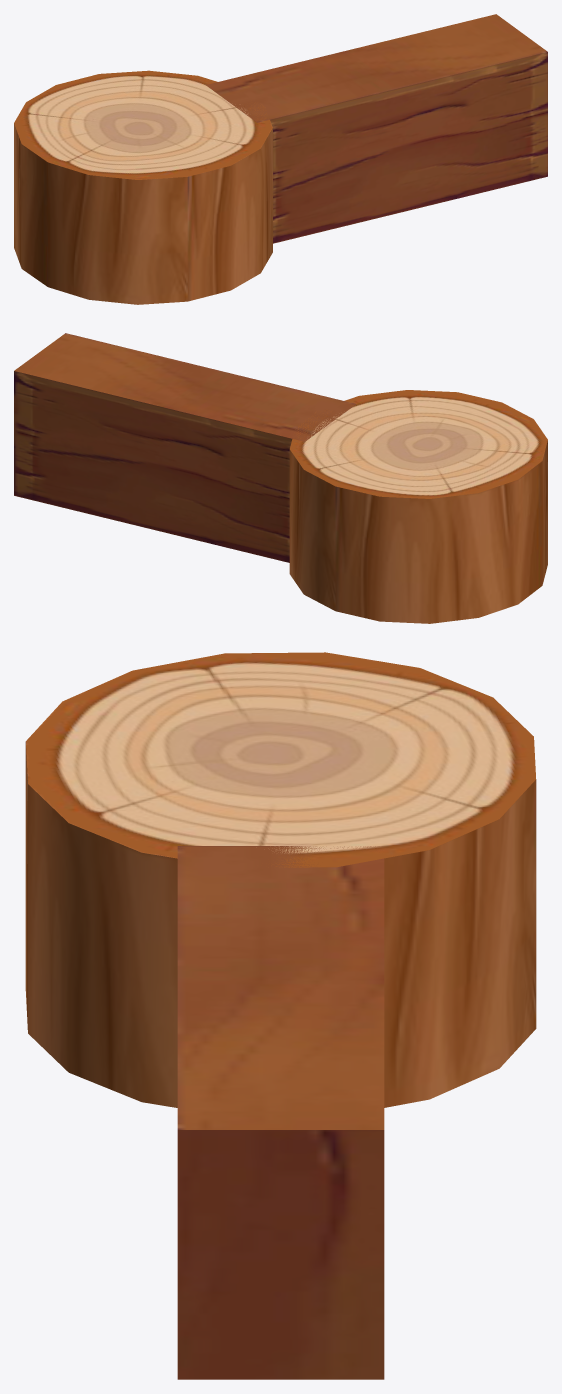
File: one_blade_wood_01.fbx
3 renders of one model, top to bottom at view 1: azimuth 30°, elevation 25°; view 2: azimuth 150°, elevation 25°; view 3: azimuth 270°, elevation 25°, orthographic. The views are drawn at different scales.
Parts seen in each view (by area): view 1: wood_center_29, Blade_46; view 2: wood_center_29, Blade_46; view 3: wood_center_29, Blade_46.
Boxes of the visible parts, bbox=[...] form: wood_center_29: bbox=[14, 70, 272, 304]; Blade_46: bbox=[206, 14, 547, 243]; wood_center_29: bbox=[289, 390, 547, 623]; Blade_46: bbox=[14, 333, 356, 562]; wood_center_29: bbox=[25, 652, 536, 1107]; Blade_46: bbox=[177, 846, 384, 1379].
Bounding box in the file's own units: 164 × 40 × 74.15.
